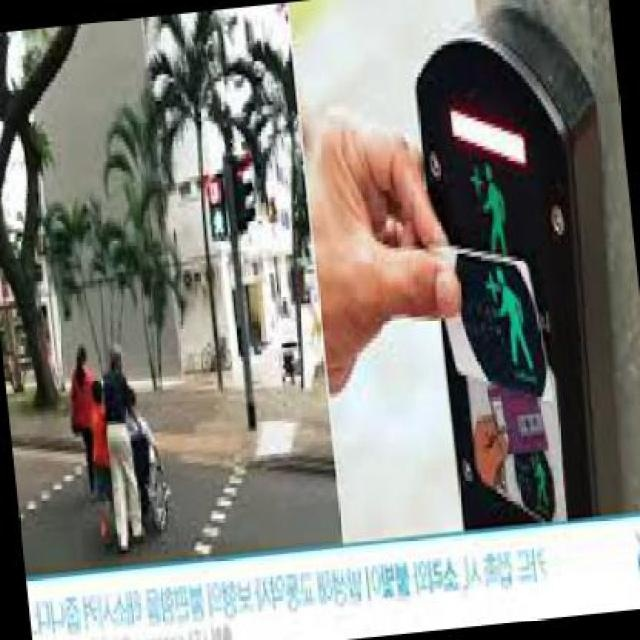obstacle: (94, 340, 146, 551), (123, 384, 169, 530), (60, 341, 98, 492), (84, 377, 116, 546)
